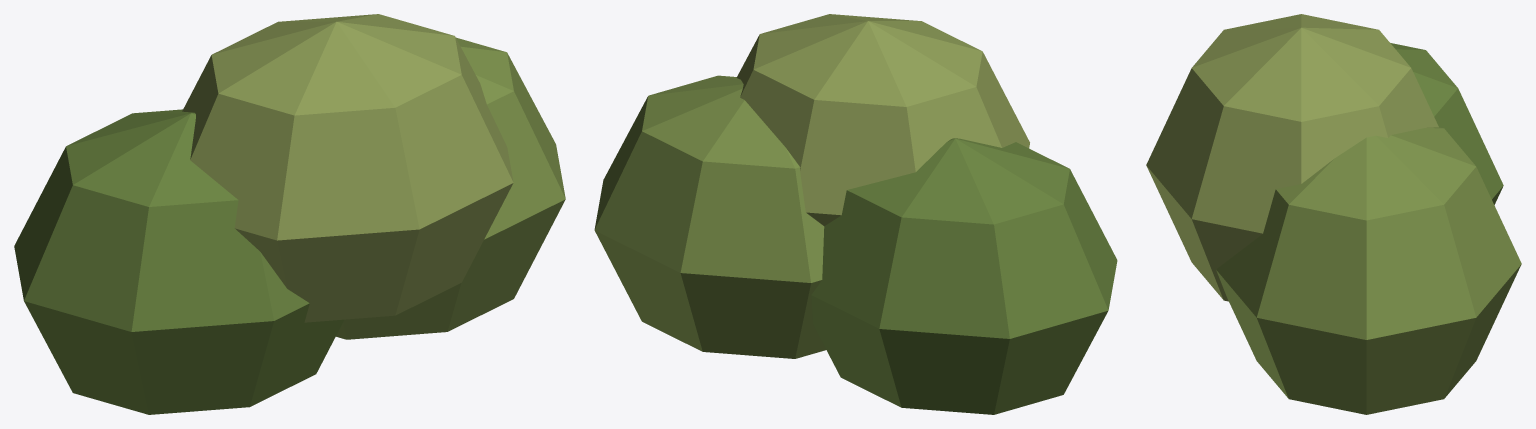
File: bush-round.glb
3 views of the same model, side by side, from view 1: azimuth 30°, elevation 25°; view 2: azimuth 150°, elevation 25°; view 3: azimuth 270°, elevation 25° (orthographic). The views are drawn at different scales.
Visible parts, largest first — view 1: bush-round_mesh; view 2: bush-round_mesh; view 3: bush-round_mesh.
Boxes of the visible parts, x1,y1,x2,y2 form: bush-round_mesh: [14, 14, 565, 414]; bush-round_mesh: [594, 14, 1117, 414]; bush-round_mesh: [1146, 14, 1521, 414].
Size of the model in its own units: 1.62 by 1.07 by 1.04.
